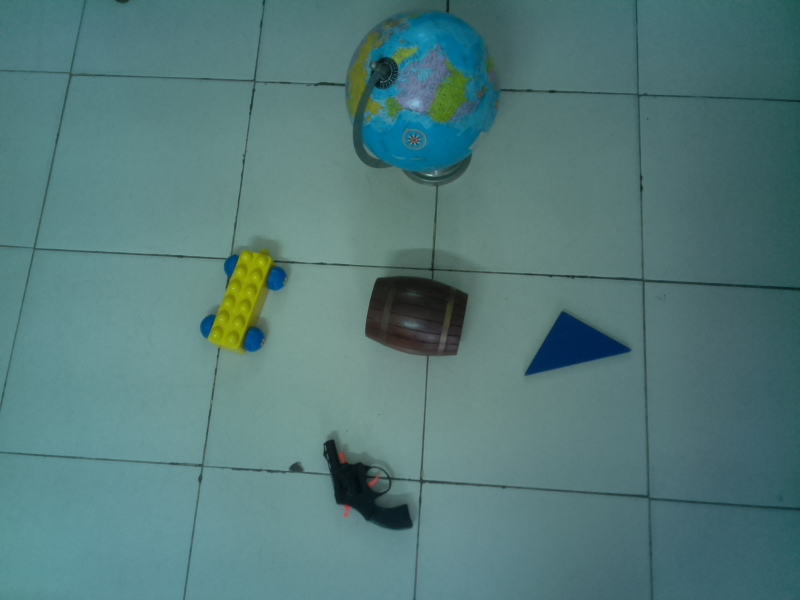Gun: (321, 435, 416, 533)
Triangle: (519, 309, 635, 380)
toy_Car: (198, 248, 291, 358)
